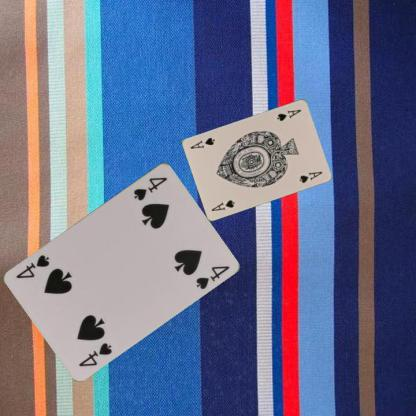4s: (76, 339, 114, 368), (130, 174, 168, 202)
As: (275, 107, 302, 122), (209, 197, 236, 212)
